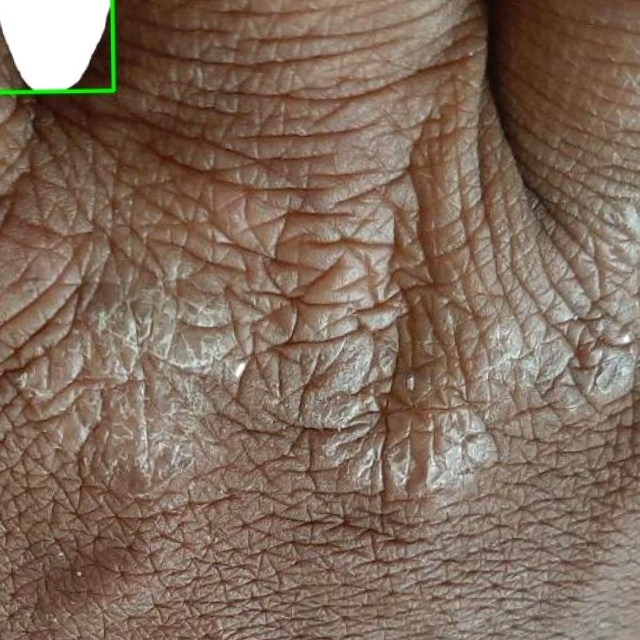Contact Dermatitis: (0, 0, 114, 92)
